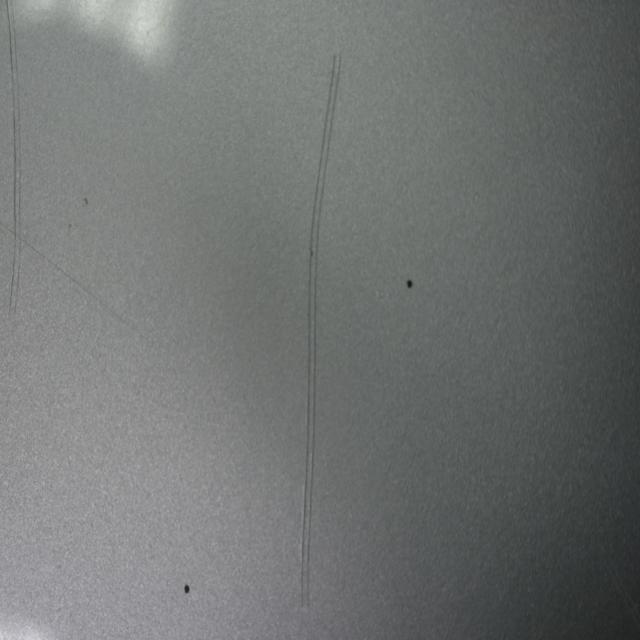dirt: (405, 277, 414, 291), (183, 581, 191, 596), (82, 195, 90, 210), (67, 220, 74, 232)
scratch: (299, 44, 348, 611), (0, 216, 152, 346), (4, 0, 25, 324)
